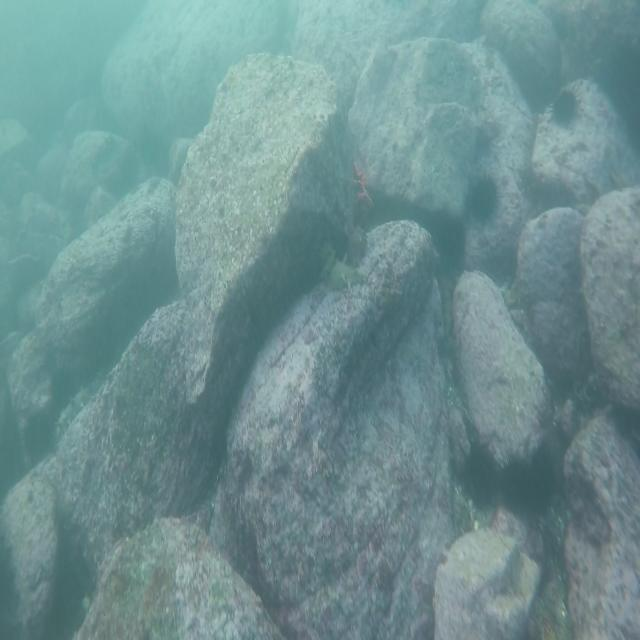echinus: (461, 440, 501, 507), (524, 454, 556, 515), (502, 454, 533, 514), (546, 82, 582, 129), (468, 169, 498, 219)
holothurian: (51, 364, 112, 434), (320, 245, 365, 296)
